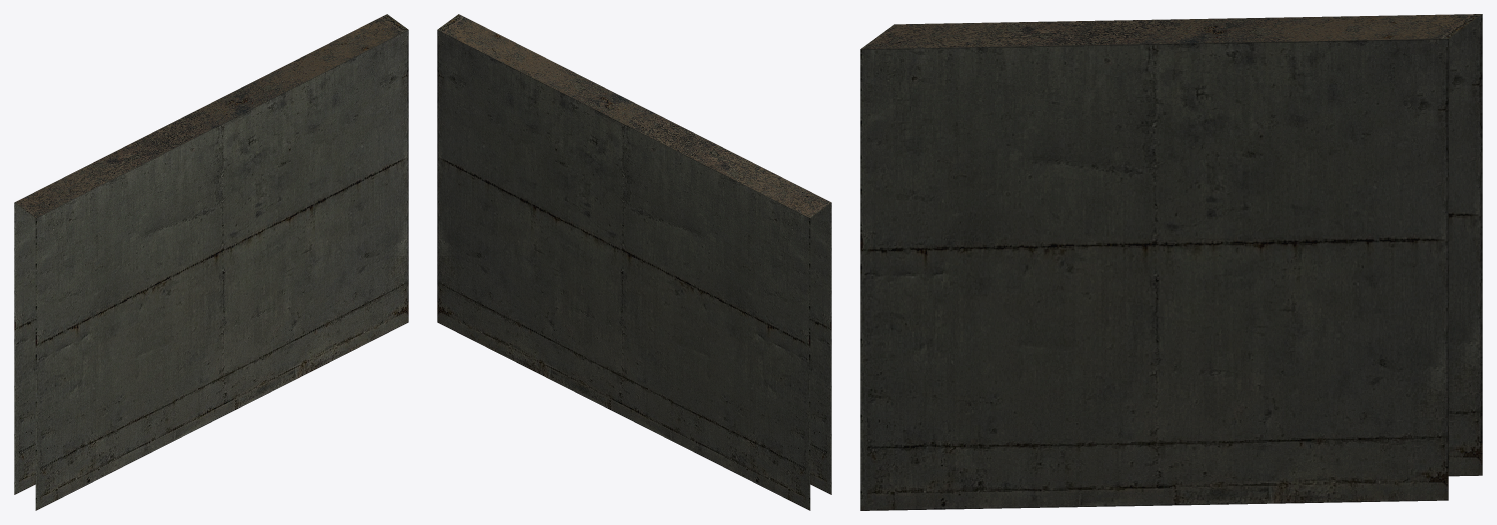
The model's file is wall_rg_1_angle.glb.
The picture shows the model from 3 angles, left to right: view 1: azimuth 30°, elevation 25°; view 2: azimuth 150°, elevation 25°; view 3: azimuth 330°, elevation 25°; orthographic projection. The views are drawn at different scales.
Parts seen in each view (by area): view 1: wall_rg_1_angle; view 2: wall_rg_1_angle; view 3: wall_rg_1_angle.
Part boxes in pixels (x1,y1,x2,y2): wall_rg_1_angle: [14, 14, 408, 510]; wall_rg_1_angle: [437, 14, 831, 510]; wall_rg_1_angle: [860, 14, 1482, 510].
Bounding box in the file's own units: 4 × 4 × 0.4.
2 materials, 2 textured.
